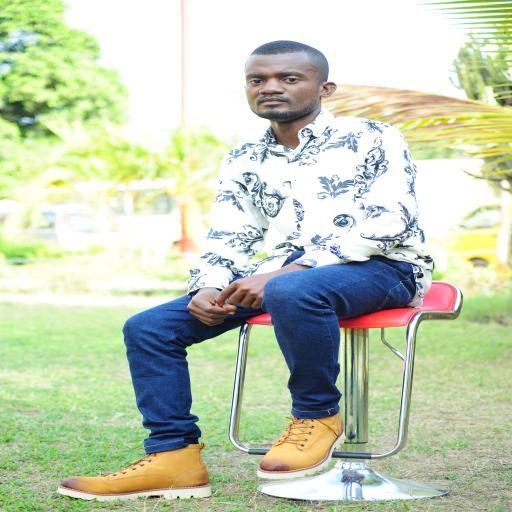MATTHIEU: (232, 40, 372, 132)
